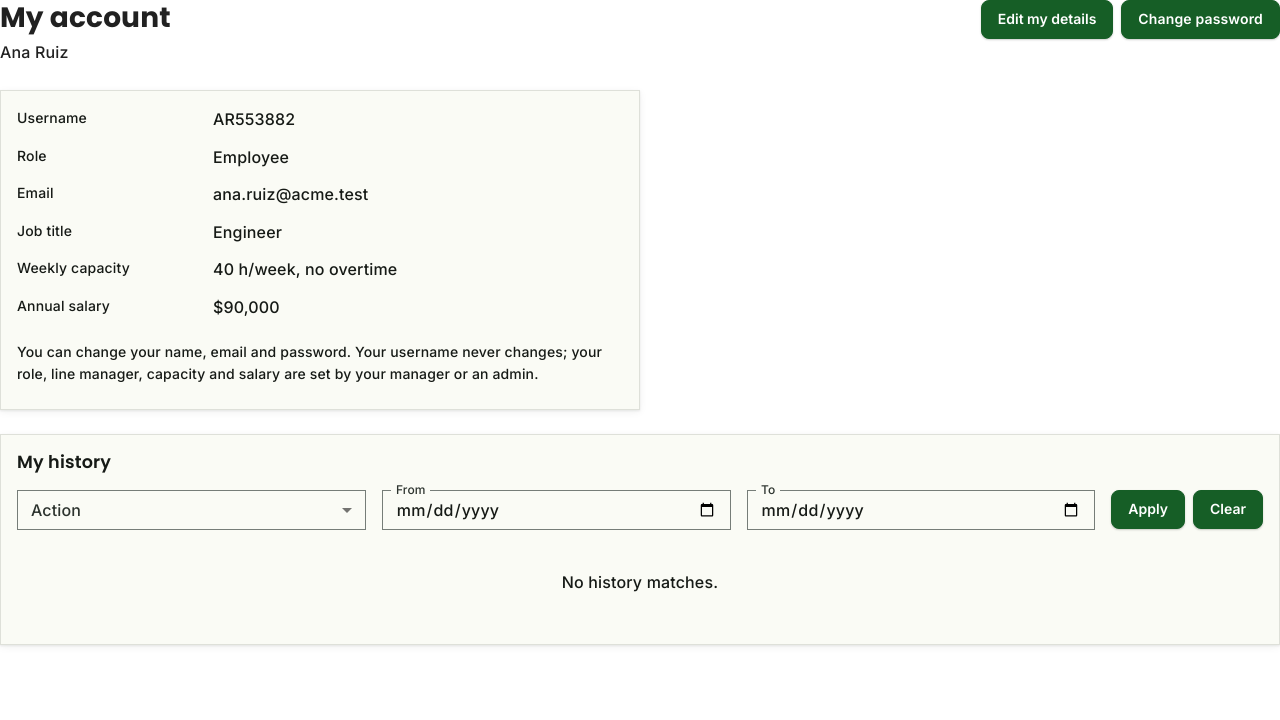
Test: AccountPage › shows the server's error on the field it concerns
Click the button "Edit my details". click: click(1047, 19)
box: [981,0,1113,38]
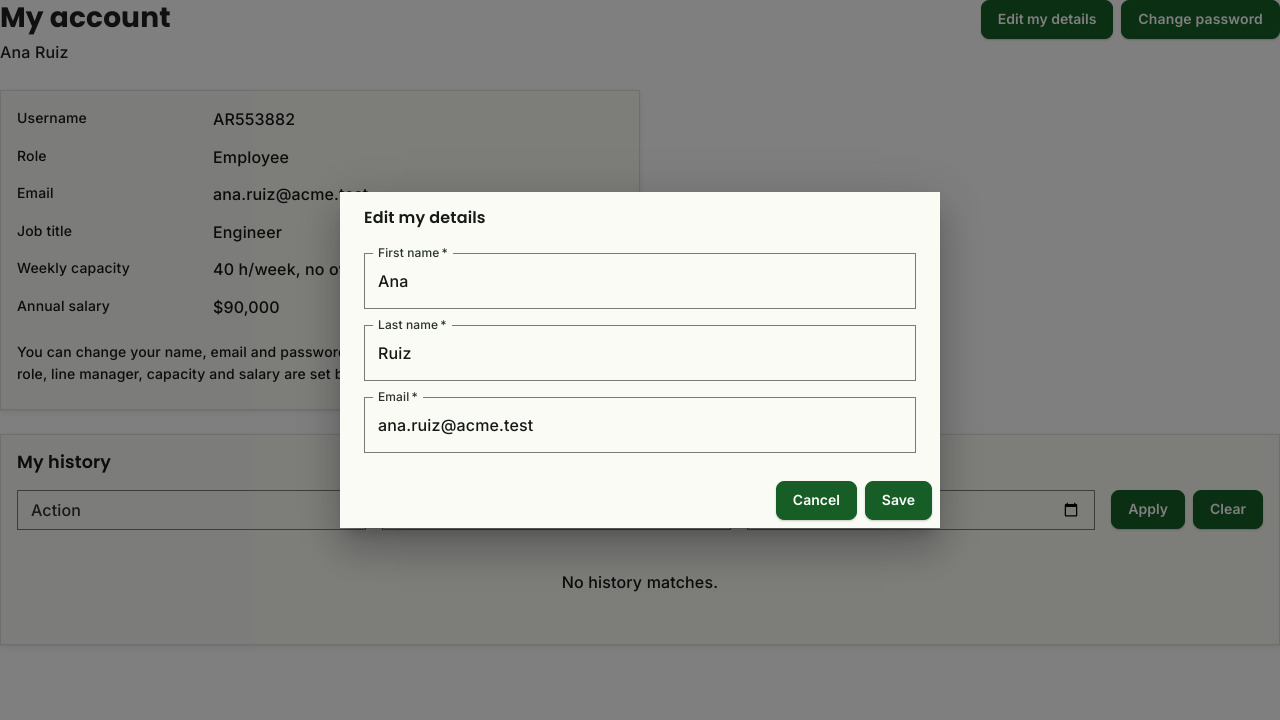
Replace the text in the field labelled "Email *" with "ben.okafor@acme.test". click: (640, 425)
box: [364,397,916,453]
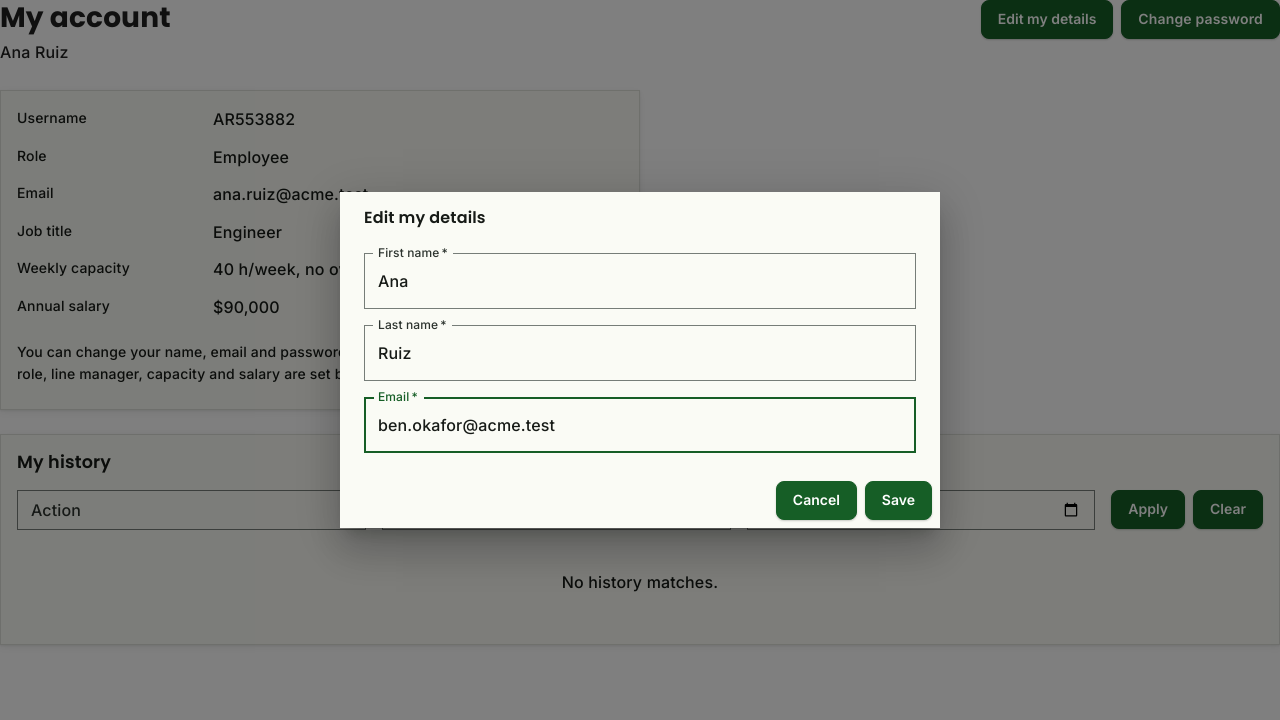
Click the button "Save". click: click(898, 500)
box: [865,481,932,520]
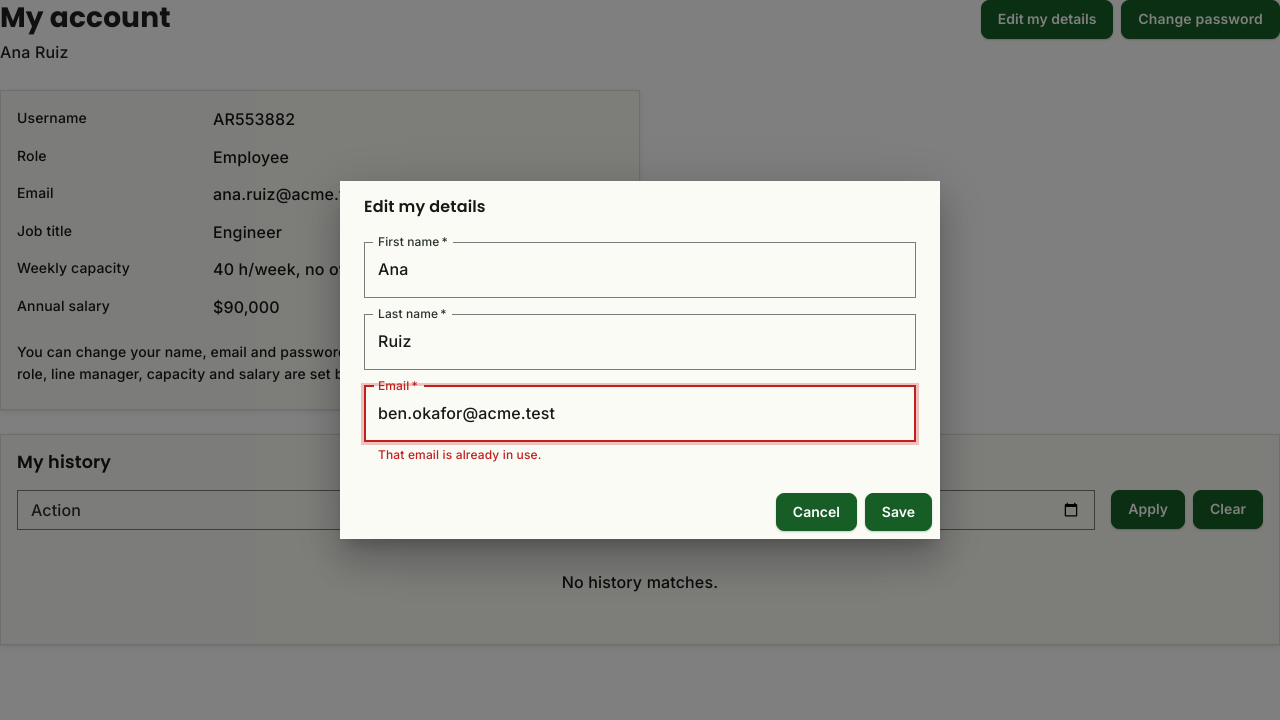
Result: the text "That email is already in use." is shown at [378,447,542,462]
